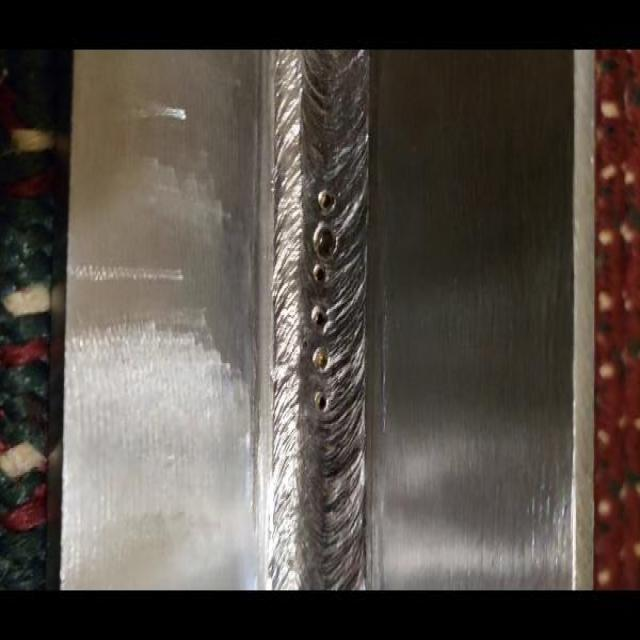Welding Line: (275, 51, 367, 592)
Workpiece: (66, 55, 590, 577)
porosity: (309, 187, 336, 411)
